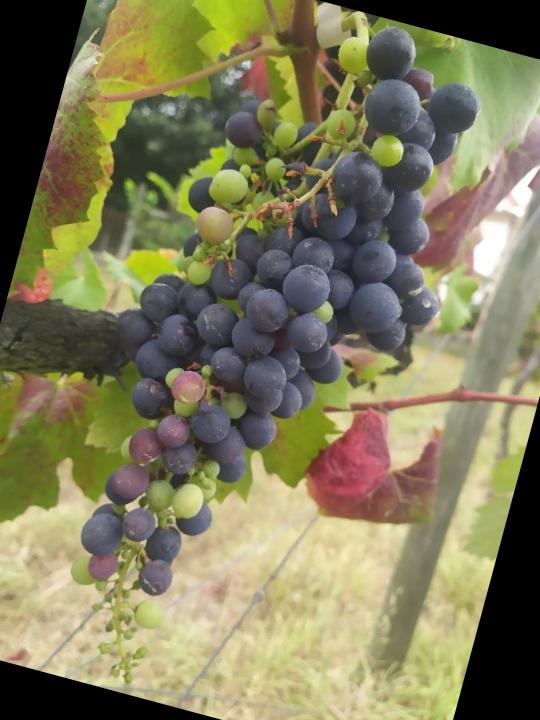grape: (26, 0, 511, 720)
